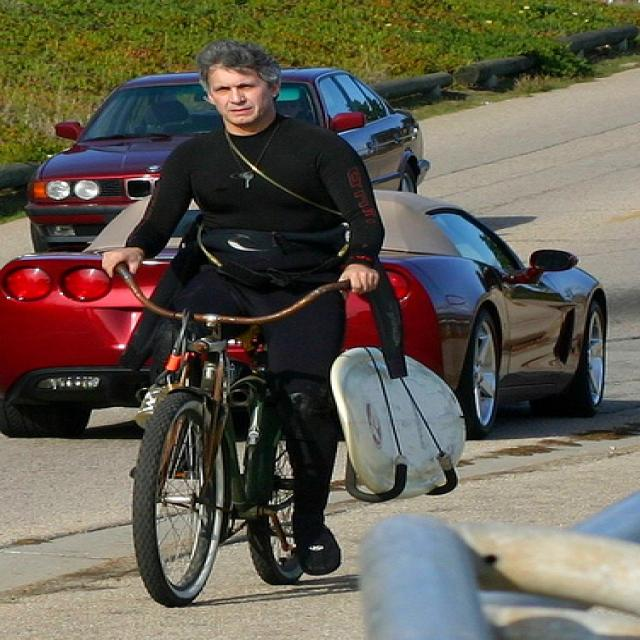Vehicle: (0, 189, 607, 439), (25, 67, 432, 255)
